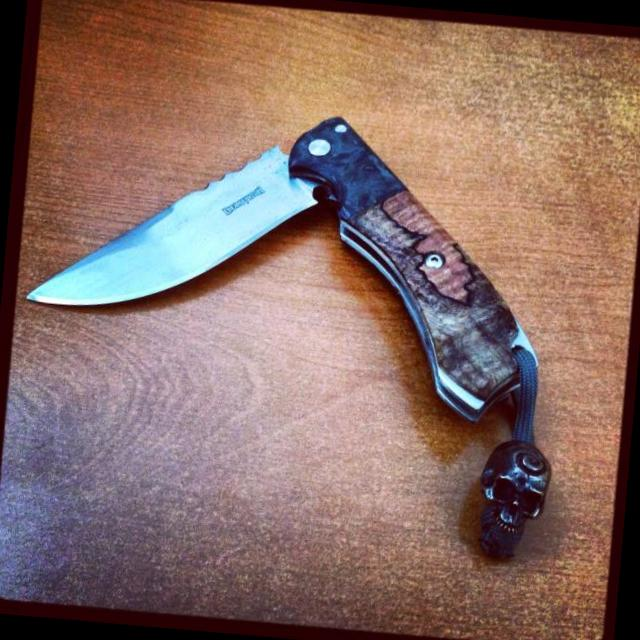Knife: (27, 117, 535, 421)
